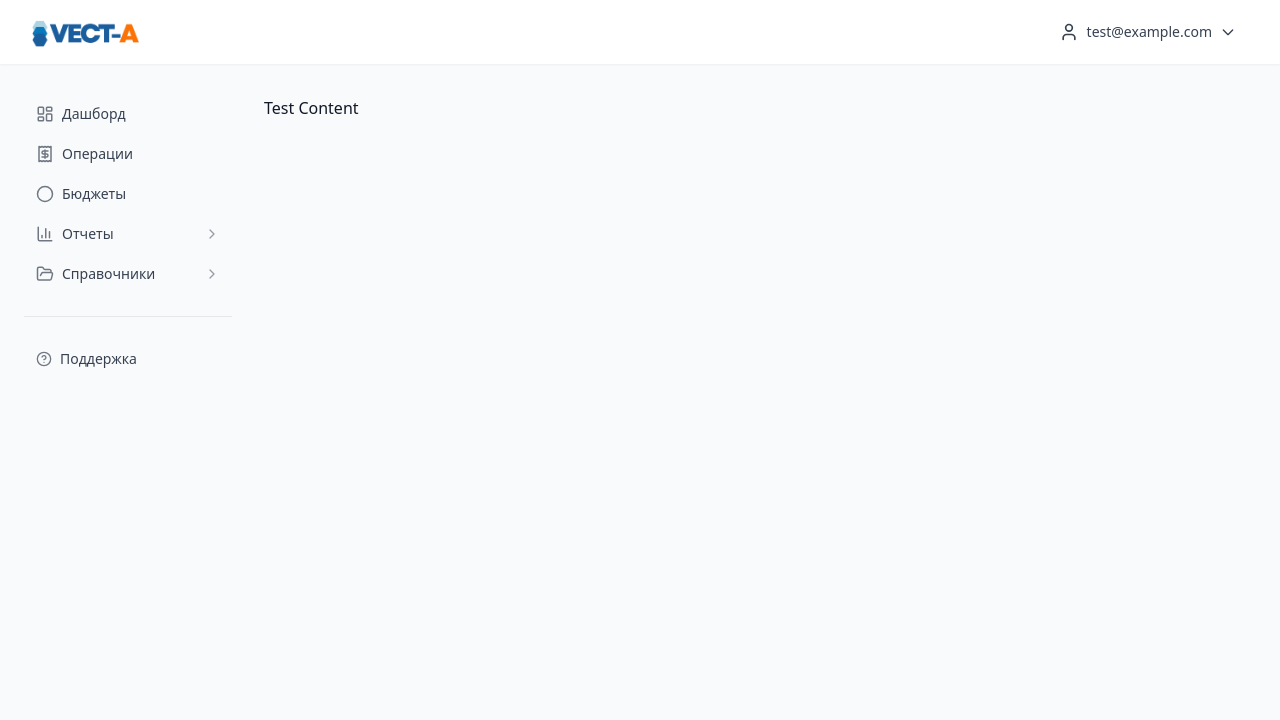
Scenario: Layout - MenuPopover Integration › should close MenuPopover when close button is clicked
Click the button "Справочники".
click(128, 274)  # box [36, 264, 220, 283]
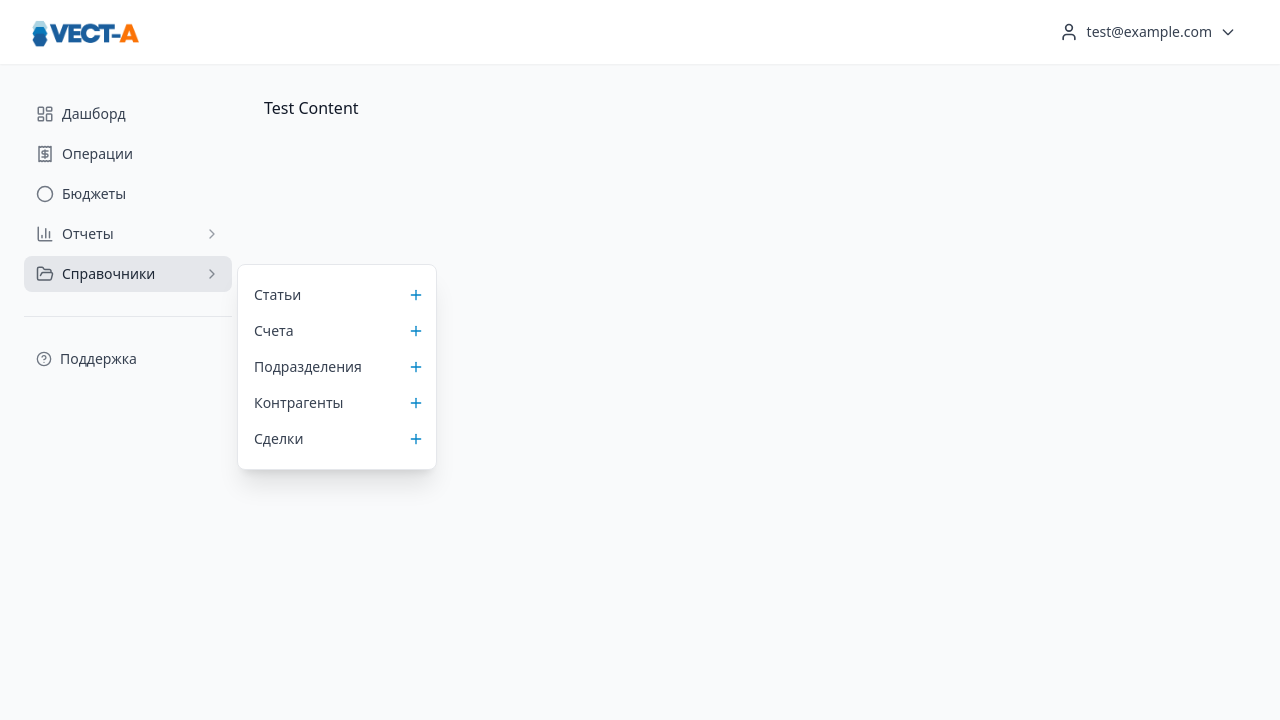
Result: the text "Статьи" is shown at [254, 285, 301, 305]
Click outside to close the popover
Press the mouse on the element that starts with "test@example.com" at (640, 360), box [0, 0, 1279, 719]
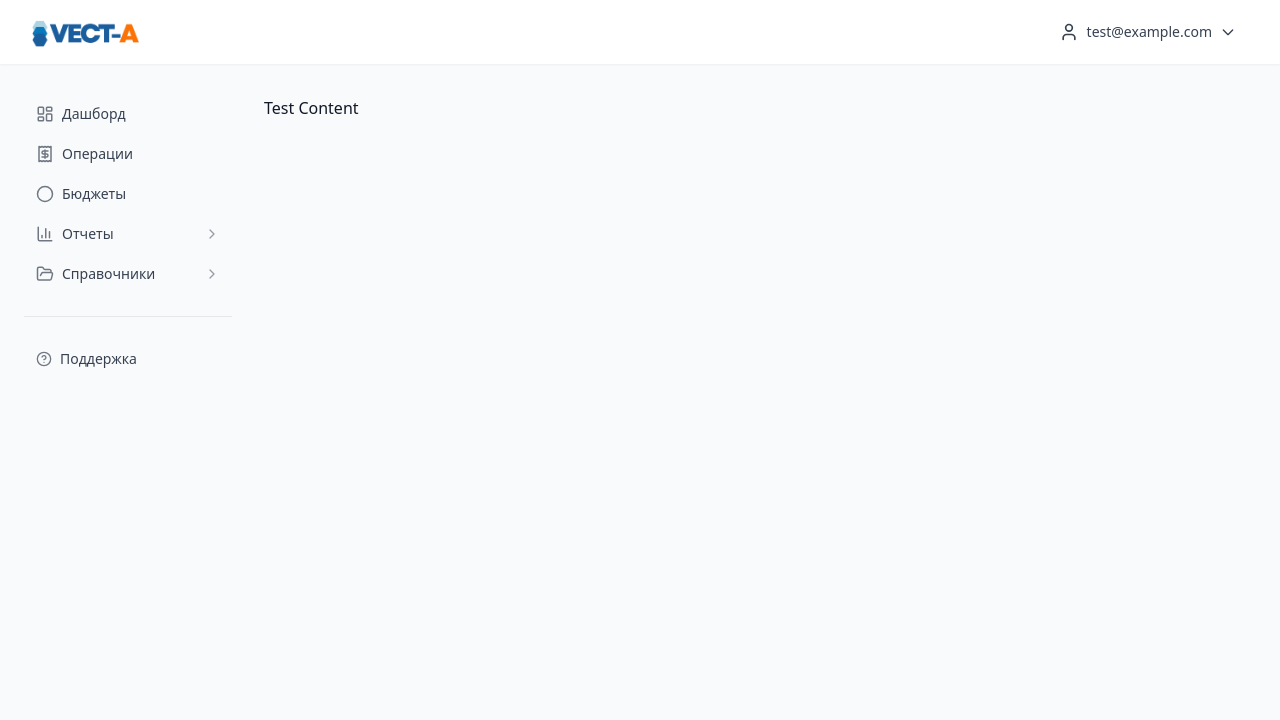
Result: the menu item "Статьи" is gone
